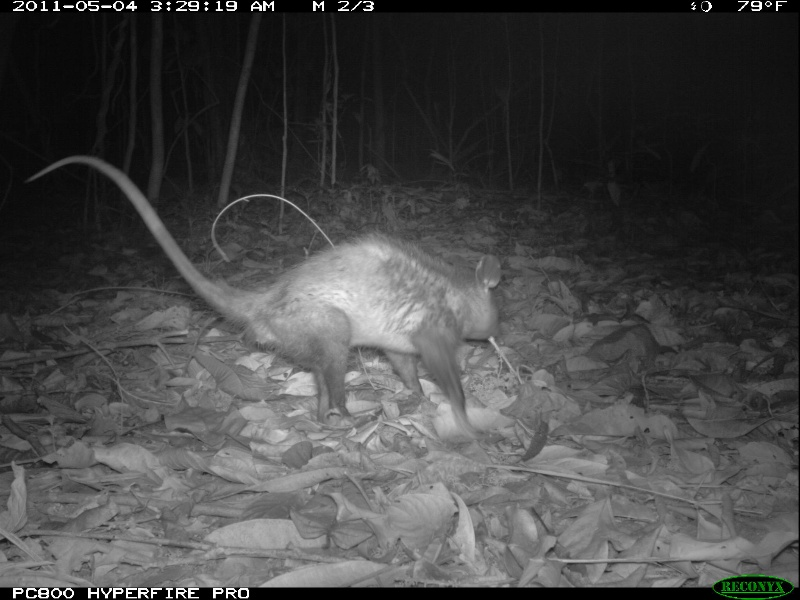opossum: (34, 152, 516, 431)
